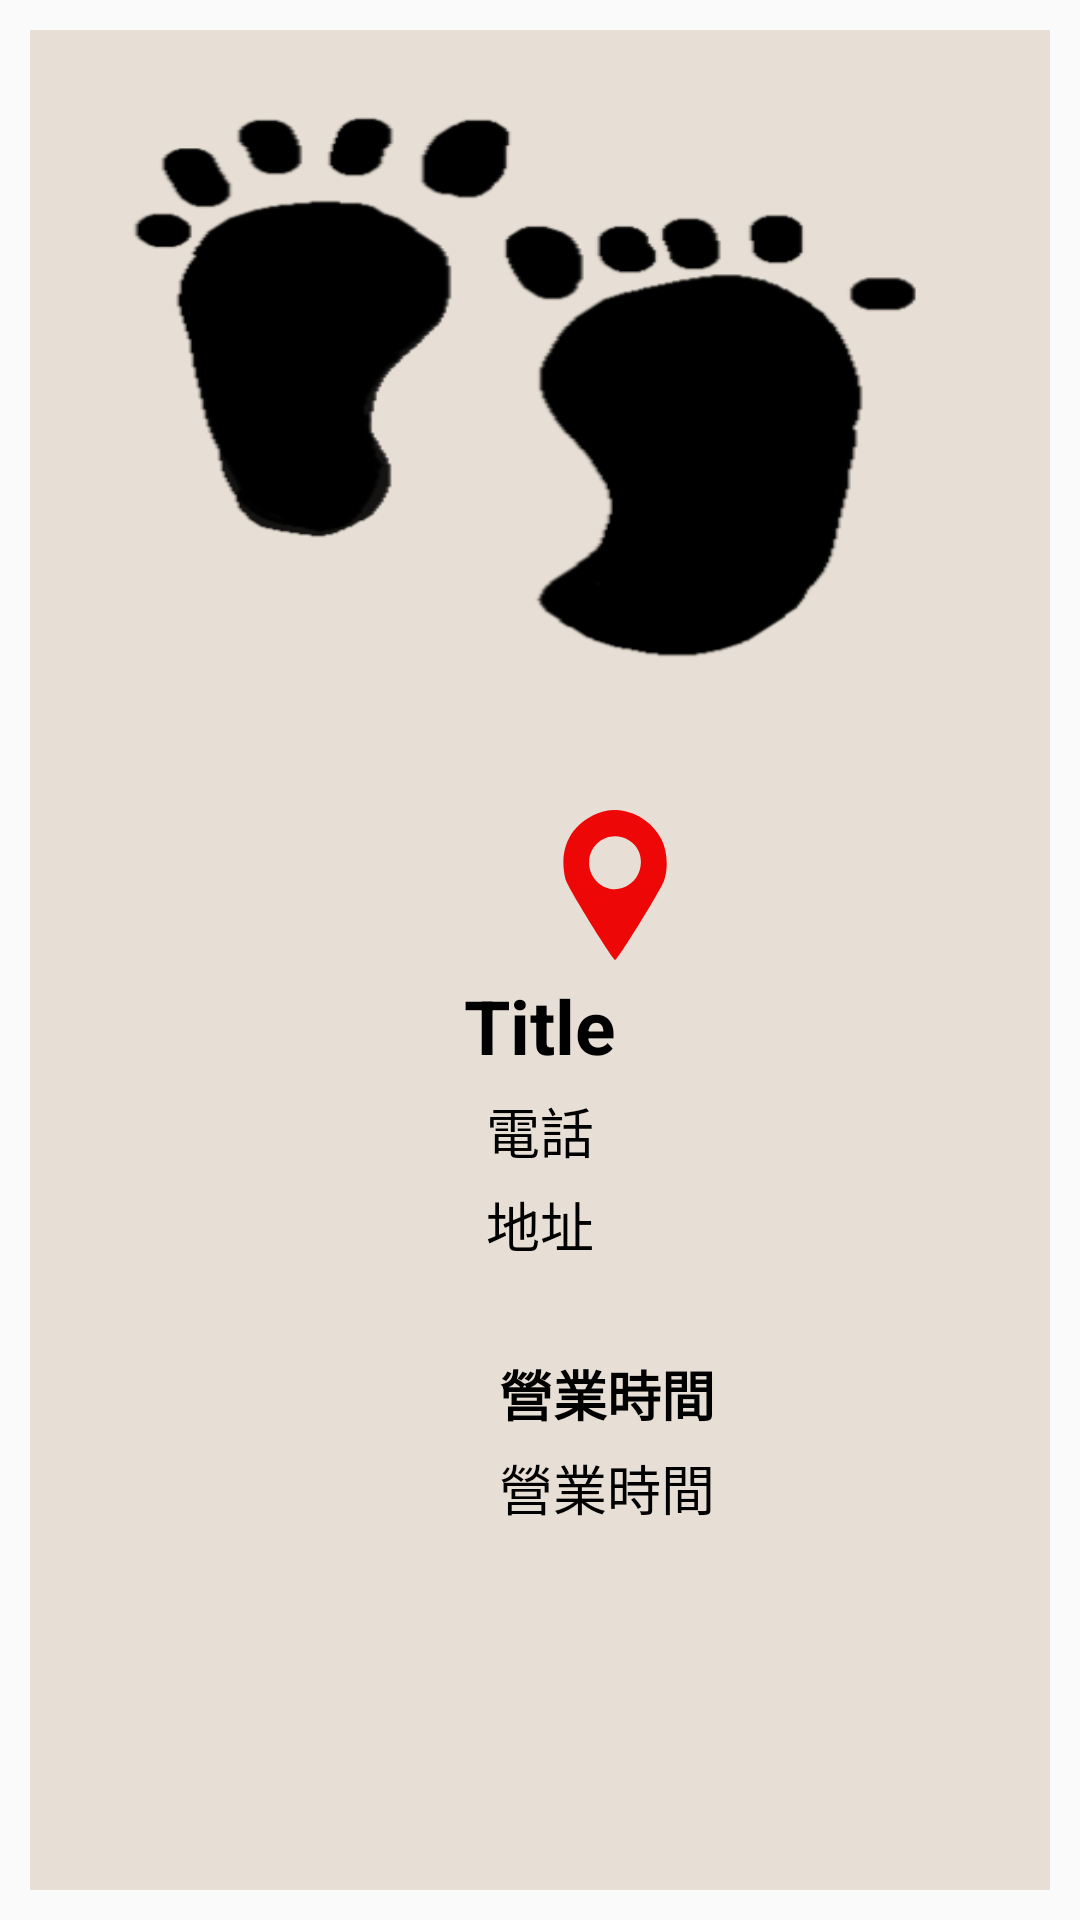

Locate icon controls on the screen. Image size 1080×1920, boxes as [left=x1, top=y1, right=x2, bottom=y2].
location: [left=563, top=810, right=667, bottom=960]
